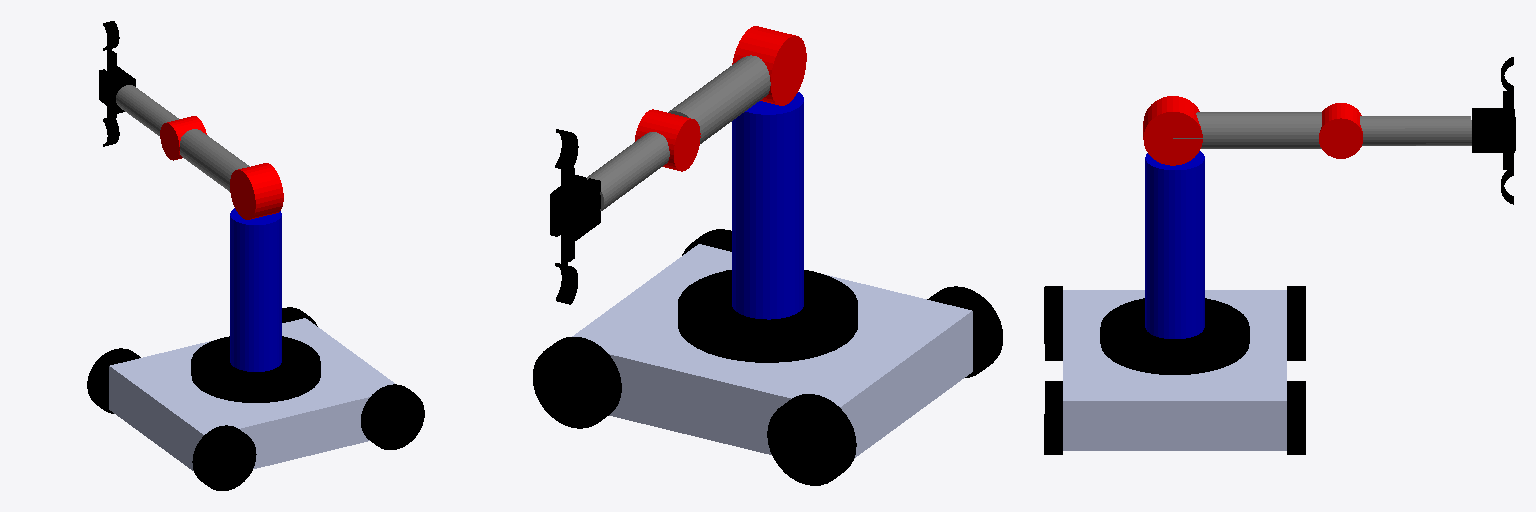
robot.urdf — armatronix:
<?xml version="1.0"?>
<robot name="armatronix">

    <link name="base_link">
        <visual>
            <origin xyz="0 0 0" rpy="0 0 0" />
            <geometry>
                <box size="0.7 0.6 0.15" />
            </geometry>
            <material name="">
                <color rgba="0.79216 0.81961 0.93333 1" />
            </material>
        </visual>
    <collision><origin xyz="0 0 0" rpy="0 0 0" /><geometry><box size="0.7 0.6 0.15" /></geometry></collision><inertial><origin xyz="0 0 0" rpy="0 0 0" /><mass value="5" /><inertia ixx="0.159375" ixy="0.0" ixz="0.0" iyy="0.213542" iyz="0.0" izz="0.354167" /></inertial><collision><origin xyz="0 0 0" rpy="0 0 0" /><geometry><box size="0.7 0.6 0.15" /></geometry></collision><inertial><origin xyz="0 0 0" rpy="0 0 0" /><mass value="5" /><inertia ixx="0.159375" ixy="0.0" ixz="0.0" iyy="0.213542" iyz="0.0" izz="0.354167" /></inertial></link>


    <link name="camera_link">

    </link>

    <joint name="camera_joint" type="fixed">
        <axis xyz="0 1 0" />
        <parent link="base_link" />
        <child link="camera_link" />
        <origin rpy="0 0 0" xyz="0.275 0 0.017" />
    </joint>


    <link name="front_left_wheel">
        <visual>
            <origin xyz="0 0 0" rpy="0 1.5708 0" />
            <geometry>
                
                <cylinder radius="0.1" length="0.05" />
            </geometry>
            <material name="black">
                <color rgba="0 0 0 1.0" />
            </material>
        </visual>
    <collision><origin xyz="0 0 0" rpy="0 0 0" /><geometry><cylinder radius="0.1" length="0.05" /></geometry></collision><inertial><origin xyz="0 0 0" rpy="0 0 0" /><mass value="2" /><inertia ixx="0.005417" ixy="0.0" ixz="0.0" iyy="0.005417" iyz="0.0" izz="0.010000" /></inertial><collision><origin xyz="0 0 0" rpy="0 0 0" /><geometry><cylinder radius="0.1" length="0.05" /></geometry></collision><inertial><origin xyz="0 0 0" rpy="0 0 0" /><mass value="2" /><inertia ixx="0.005417" ixy="0.0" ixz="0.0" iyy="0.005417" iyz="0.0" izz="0.010000" /></inertial></link>

    <joint name="front_left_wheel_joint" type="continuous">
        <axis xyz="1 0 0" />
        <parent link="base_link" />
        <child link="front_left_wheel" />
        <origin xyz="0.3 0.325 0" rpy="0 0 1.57" />
    </joint>


    <link name="front_right_wheel">
        <visual>
            <origin xyz="0 0 0" rpy="0 4.7129 0" />
            <geometry>
                <cylinder radius="0.1" length="0.05" />
            </geometry>
            <material name="black">
                <color rgba="0 0 0 1.0" />
            </material>
        </visual>
    <collision><origin xyz="0 0 0" rpy="0 0 0" /><geometry><cylinder radius="0.1" length="0.05" /></geometry></collision><inertial><origin xyz="0 0 0" rpy="0 0 0" /><mass value="2" /><inertia ixx="0.005417" ixy="0.0" ixz="0.0" iyy="0.005417" iyz="0.0" izz="0.010000" /></inertial></link>

    <joint name="front_right_wheel_joint" type="continuous">
        <axis xyz="1 0 0" />
        <parent link="base_link" />
        <child link="front_right_wheel" />
        <origin xyz="0.3 -0.325 0" rpy="0 0 1.57" />
    </joint>


    <link name="rear_left_wheel">
        <visual>
            <origin xyz="0 0 0" rpy="0 1.5708 0" />
            <geometry>
                <cylinder radius="0.1" length="0.05" />
            </geometry>
            <material name="black">
                <color rgba="0 0 0 1.0" />
            </material>
        </visual>
    <collision><origin xyz="0 0 0" rpy="0 0 0" /><geometry><cylinder radius="0.1" length="0.05" /></geometry></collision><inertial><origin xyz="0 0 0" rpy="0 0 0" /><mass value="2" /><inertia ixx="0.005417" ixy="0.0" ixz="0.0" iyy="0.005417" iyz="0.0" izz="0.010000" /></inertial></link>

    <joint name="rear_left_wheel_joint" type="continuous">
        <axis xyz="1 0 0" />
        <parent link="base_link" />
        <child link="rear_left_wheel" />
        <origin xyz="-0.3 0.325 0" rpy="0 0 1.57" />
    </joint>


    <link name="rear_right_wheel">
        <visual>
            <origin xyz="0 0 0" rpy="3.14 1.5708 0" />
            <geometry>
                <cylinder radius="0.1" length="0.05" />
            </geometry>
            <material name="black">
                <color rgba="0 0 0 1.0" />
            </material>
        </visual>
    <collision><origin xyz="0 0 0" rpy="0 0 0" /><geometry><cylinder radius="0.1" length="0.05" /></geometry></collision><inertial><origin xyz="0 0 0" rpy="0 0 0" /><mass value="2" /><inertia ixx="0.005417" ixy="0.0" ixz="0.0" iyy="0.005417" iyz="0.0" izz="0.010000" /></inertial></link>

    <joint name="rear_right_wheel_joint" type="continuous">
        <axis xyz="1 0 0" />
        <parent link="base_link" />
        <child link="rear_right_wheel" />
        <origin xyz="-0.3 -0.325 0" rpy="0 0 1.57" />
    </joint>





    <link name="arm_base_link">
    <visual>
        <geometry>
            <cylinder length="0.05" radius="0.2" />
        </geometry>
        <material name="Black">
            <color rgba="0 0 0 1" />
        </material>
        <origin rpy="0 0 0" xyz="0 0 0.025" />
    </visual>
    <collision>
        <geometry>
            <cylinder length="0.05" radius="0.2" />
        </geometry>
        <origin xyz="0 0 0.025" rpy="0 0 0" />
    </collision>
    <inertial>
        <mass value="2.0" /> <!-- Adjusted mass considering the base -->
        <origin xyz="0 0 0" rpy="0 0 0" />
        <inertia ixx="0.0035" ixy="0.0" ixz="0.0" iyy="0.0035" iyz="0.0" izz="0.007" />
    </inertial>
</link>

<link name="link_1">
    <visual>
        <origin xyz="0.0 0.0 0.25" rpy="0.0 0.0 0.0" />
        <geometry>
            <cylinder radius="0.08" length="0.5" />
        </geometry>
        <material name="Blue">
            <color rgba="0 0 0.8 1" />
        </material>
    </visual>
    <collision>
        <geometry>
            <cylinder radius="0.08" length="0.5" />
        </geometry>
        <origin xyz="0.0 0.0 0.25" rpy="0.0 0.0 0.0" />
    </collision>
    <inertial>
        <mass value="1.5" /> <!-- Adjusted for the long link -->
        <origin xyz="0 0 0" rpy="0 0 0" />
        <inertia ixx="0.005" ixy="0.0" ixz="0.0" iyy="0.005" iyz="0.0" izz="0.0015" />
    </inertial>
</link>

<link name="link_2">
    <visual>
        <geometry>
            <cylinder radius="0.08" length="0.1" />
        </geometry>
        <material name="Red">
            <color rgba="1 0 0 1" />
        </material>
    </visual>
    <collision>
        <geometry>
            <cylinder radius="0.08" length="0.1" />
        </geometry>
        <origin xyz="0 0 0.05" rpy="0 0 0" />
    </collision>
    <inertial>
        <mass value="0.5" /> <!-- Lighter link due to its size -->
        <origin xyz="0 0 0" rpy="0 0 0" />
        <inertia ixx="0.0003" ixy="0.0" ixz="0.0" iyy="0.0003" iyz="0.0" izz="0.0001" />
    </inertial>
</link>

<link name="link_3">
    <visual>
        <geometry>
            <cylinder radius="0.05" length="0.4" />
        </geometry>
        <material name="Blue">
            <color rgba="0.5 0.5 0.5 1" />
        </material>
    </visual>
    <collision>
        <geometry>
            <cylinder radius="0.05" length="0.4" />
        </geometry>
        <origin xyz="0 0 0.2" rpy="0 0 0" />
    </collision>
    <inertial>
        <mass value="1.0" /> <!-- Moderate mass for stability -->
        <origin xyz="0 0 0" rpy="0 0 0" />
        <inertia ixx="0.0015" ixy="0.0" ixz="0.0" iyy="0.0015" iyz="0.0" izz="0.0006" />
    </inertial>
</link>

<link name="link_4">
    <visual>
        <geometry>
            <cylinder radius="0.06" length="0.1" />
        </geometry>
        <material name="Red">
            <color rgba="1 0 0 1" />
        </material>
    </visual>
    <collision>
        <geometry>
            <cylinder radius="0.06" length="0.1" />
        </geometry>
        <origin xyz="0 0 0.05" rpy="0 0 0" />
    </collision>
    <inertial>
        <mass value="0.5" /> <!-- Small link, lower mass -->
        <origin xyz="0 0 0" rpy="0 0 0" />
        <inertia ixx="0.0002" ixy="0.0" ixz="0.0" iyy="0.0002" iyz="0.0" izz="0.00005" />
    </inertial>
</link>

<link name="link_5">
    <visual>
        <geometry>
            <cylinder radius="0.04" length="0.3" />
        </geometry>
        <material name="Blue">
            <color rgba="0.5 0.5 0.5 1" />
        </material>
    </visual>
    <collision>
        <geometry>
            <cylinder radius="0.04" length="0.3" />
        </geometry>
        <origin xyz="0 0 0.15" rpy="0 0 0" />
    </collision>
    <inertial>
        <mass value="0.8" /> <!-- Final link with payload capability -->
        <origin xyz="0 0 0" rpy="0 0 0" />
        <inertia ixx="0.0009" ixy="0.0" ixz="0.0" iyy="0.0009" iyz="0.0" izz="0.0002" />
    </inertial>
</link>

<link name="gripper_link">
    <visual>
        <geometry>
            <mesh filename="package://armatronix/meshes/angular_gripper.stl" scale="0.002 0.002 0.002"/>

        </geometry>
        <material name="black">
                <color rgba="0 0 0 1.0" />
        </material>
        <origin xyz="0 0 0" rpy="0 0 0"/>
    </visual>

    <collision>
        <geometry>
            <mesh filename="package://armatronix/meshes/angular_gripper.stl" scale="0.002 0.002 0.002"/>

        </geometry>
        <origin xyz="0 0 0" rpy="0 0 0"/>
    </collision>

    <inertial>
        <mass value="0.3"/>  <!-- Approximate mass of the gripper, you can adjust this -->
        <origin xyz="0 0 0" rpy="0 0 0"/>
        <inertia ixx="0.001" ixy="0.0" ixz="0.0" iyy="0.001" iyz="0.0" izz="0.001"/>
    </inertial>
</link>


<joint name="joint_0" type="fixed">
    <parent link="base_link" />
    <child link="arm_base_link" />
    <origin rpy="0 0 0" xyz="0.0 0.0 0.08" />
</joint>

<joint name="joint_1" type="continuous">
    <axis xyz="0 0 1" />
    <parent link="arm_base_link" />
    <child link="link_1" />
    <origin rpy="0 0 0" xyz="0.0 0.0 0.05" />
</joint>

<joint name="joint_2" type="revolute">
    <axis xyz="0 0 1" />
    <parent link="link_1" />
    <child link="link_2" />
    <origin rpy="0 1.5708 0" xyz="0.0 -0.005 0.58" />
    <limit lower="-0.127" upper="1.57" effort="10" velocity="0.5" />
</joint>

<joint name="joint_3" type="fixed">
    <parent link="link_2" />
    <child link="link_3" />
    <origin rpy="1.57 0 0" xyz="0.0 0.2 0 " />
</joint>

<joint name="joint_4" type="revolute">
    <parent link="link_3" />
    <child link="link_4" />
    <origin rpy="1.57 0 0" xyz=" 0 0 -0.25" />
    <axis xyz=" 0 0 1" />
    <limit lower="-0.00" upper="1.57" effort="10" velocity="0.5" />
</joint>

<joint name="joint_5" type="fixed">
    <parent link="link_4" />
    <child link="link_5" />
    <origin rpy="1.57 0 0" xyz="0.0 -0.2 0 " />
</joint>

<joint name="gripper_joint" type="continuous">
    <axis xyz="0 1 0" />
    <parent link="link_5"/>
    <child link="gripper_link"/>
    <origin xyz="0 0 0.21" rpy="1.5708 0 0"/>  <!-- Adjust based on where the gripper should be attached -->
    
</joint>


<gazebo reference="arm_base_link">
    <material>Gazebo/Black</material>
</gazebo>

<gazebo reference="link_1">
    <material>Gazebo/Orange</material>
</gazebo>

<gazebo reference="link_3">
    <material>Gazebo/Orange</material>
</gazebo>

<gazebo reference="link_2">
    <material>Gazebo/Red</material>
</gazebo>

<gazebo reference="link_4">
    <material>Gazebo/Red</material>
</gazebo>

<gazebo reference="link_5">
    <material>Gazebo/Orange</material>
</gazebo>

</robot>





    <!-- <?xml version="1.0"?> -->
<!-- <robot name="armatronix"> -->
    <!-- <link name="base_link">
        <visual>
            <geometry>
                <cylinder length="0.05" radius="0.2"/>
            </geometry>
            <material name="Black">
                <color rgba="0 0 0 1"/>
            </material>
            <origin rpy="0 0 0" xyz="0 0 0.025"/>
        </visual>
        
        <collision>
            <geometry>
                <cylinder radius="0.2" length="0.05"/>
            </geometry>
            <origin rpy="0 0 0" xyz="0 0 0.025"/>
        </collision>

        <inertial>
            <origin xyz="0.0 0.0 0.025" rpy="0.0 0.0 0.0"/>
            <mass value="5.0"/>
            <inertia ixx="0.0135" ixy="0.0" ixz="0.0" iyy="0.0135" iyz="0.0" izz="0.05"/>
        </inertial>
    </link>

    <link name="link_1">
        <visual>
            <origin xyz="0.0 0.0 0.25" rpy="0.0 0.0 0.0"/>
            <geometry>
                <cylinder radius="0.08" length="0.5"/>
            </geometry>
            <material name="Blue">
                <color rgba="0 0 0.8 1"/>
            </material>
        </visual>

        <collision>
            <origin xyz="0.0 0.0 0.25" rpy="0.0 0.0 0.0"/>
            <geometry>
                <cylinder radius="0.08" length="0.5"/>
            </geometry>
        </collision>

        <inertial>
            <origin xyz="0.0 0.0 0.25" rpy="0.0 0.0 0.0"/>
            <mass value="5.0"/>
            <inertia ixx="0.107" ixy="0.0" ixz="0.0" iyy="0.107" iyz="0.0" izz="0.0125"/>
        </inertial>
    </link>
        

    <link name="link_2">
        <visual>
            <geometry>
                <cylinder radius="0.08" length="0.1"/>
            </geometry>
            <material name="Red">
                <color rgba="1 0 0 1"/>
            </material>
        </visual>

        <collision>
            <geometry>
                <cylinder radius="0.08" length="0.1"/>
            </geometry>
        </collision>

        <inertial>
            <origin xyz="0.0 0.0 0.2" rpy="0.0 0.0 0.0"/>
            <mass value="2.0"/>
            <inertia ixx="0.027" ixy="0.0" ixz="0.0" iyy="0.027" iyz="0.0" izz="0.0025"/>
        </inertial>
    </link>
        

    <link name="link_3">
        <visual>
            <geometry>
                <cylinder radius="0.05" length="0.4"/>
            </geometry>
            <material name="Blue">
                <color rgba="0.5 0.5 0.5 1"/>
            </material>
        </visual>

        <collision>
            <geometry>
                <cylinder radius="0.05" length="0.4"/>
            </geometry>
        </collision>

        <inertial>
            <origin xyz="0.0 0.0 0.2" rpy="0.0 0.0 0.0"/>
            <mass value="0.01"/>
            <inertia ixx="0.027" ixy="0.0" ixz="0.0" iyy="0.027" iyz="0.0" izz="0.0025"/>
        </inertial>
    </link>


    <link name="link_4">
        <visual>
            <geometry>
                <cylinder radius="0.06" length="0.1"/>
            </geometry>
            <material name="Red">
                <color rgba="1 0 0 1"/>
            </material>
        </visual>

        <collision>
            <geometry>
                <cylinder radius="0.06" length="0.1"/>
            </geometry>
        </collision>

        <inertial>
            <origin xyz="0.0 0.0 0.2" rpy="0.0 0.0 0.0"/>
            <mass value="0.01"/>
            <inertia ixx="0.027" ixy="0.0" ixz="0.0" iyy="0.027" iyz="0.0" izz="0.0025"/>
        </inertial>
    </link>


    <link name="link_5">
        <visual>
            <geometry>
                <cylinder radius="0.03" length="0.3"/>
            </geometry>
            <material name="Yelow">
                <color rgba="0 1 0.5 1"/>
            </material>
        </visual>

        <collision>
            <geometry>
                <cylinder radius="0.03" length="0.3"/>
            </geometry>
            <dynamics damping="0.0" friction="0.0"/>
        </collision>

        <inertial>
            <origin xyz="0.0 0.0 0.2" rpy="0.0 0.0 0.0"/>
            <mass value="0.01"/>
            <inertia ixx="0.027" ixy="0.0" ixz="0.0" iyy="0.027" iyz="0.0" izz="0.0025"/>
        </inertial>
    </link>



    <joint name="joint_1" type="continuous">
        <axis xyz="0 0 1"/>
        <parent link="base_link"/>
        <child link="link_1"/>
        <origin rpy="0 0 0" xyz="0.0 0.0 0.05"/>

    </joint>

    <joint name="joint_2" type="continuous">
        <axis xyz="0 0 1"/>
        <parent link="link_1"/>
        <child link="link_2"/>
        <origin rpy="0 1.5708 0" xyz="0.0 -0.005 0.58"/>
        <limit lower="-0.25" upper="3.34" effort="10" velocity="0.5"/>

    </joint>

    <joint name="joint_3" type="fixed">
        <parent link="link_2"/>
        <child link="link_3"/>
        <origin rpy="1.57 0 0" xyz="0.0 0.2 0 "/>

    </joint>


    <joint name="joint_4" type="continuous">
        <parent link="link_3"/>
        <child link="link_4"/>
        <origin rpy="1.57 0 0" xyz=" 0 0 -0.25"/>
        <axis xyz=" 0 0 1"/>
        <limit lower="-1.92" upper="1.92" effort="10" velocity="0.5"/>

    </joint>

    <joint name="joint_5" type="fixed">
        <parent link="link_4"/>
        <child link="link_5"/>
        <origin rpy="1.57 0 0" xyz="0.0 -0.2 0 "/>

    </joint>


    <gazebo reference="base_link">
    <material>Gazebo/Black</material>
    </gazebo>

    <gazebo reference="link_1">
    <material>Gazebo/Orange</material>
    </gazebo>

    <gazebo reference="link_3">
    <material>Gazebo/Orange</material>
    </gazebo>

    <gazebo reference="link_2">
    <material>Gazebo/Red</material>
    </gazebo>

    <gazebo reference="link_4">
    <material>Gazebo/Red</material>
    </gazebo>

    <gazebo reference="link_5">
    <material>Gazebo/Orange</material>
    </gazebo>


    <ros2_control name="GazeboSystem" type="system">
    <hardware>
        <plugin>gazebo_ros2_control/GazeboSystem</plugin>
    </hardware>
    <joint name="joint_1">

        <command_interface name="position">
        <param name="min">-3.14</param>
        <param name="max">3.14</param>
        </command_interface>

        <state_interface name="position">
        <param name="initial_value">1.0</param>
        </state_interface>
        <state_interface name="velocity"/>
        <state_interface name="effort"/>

    </joint>
    </ros2_control>

    <ros2_control name="GazeboSystem" type="system">
    <hardware>
        <plugin>gazebo_ros2_control/GazeboSystem</plugin>
    </hardware>
    <joint name="joint_2">

        <command_interface name="position">
        <param name="min">-0.75</param>
        <param name="max">3.14</param>
        </command_interface>

        <state_interface name="position">
        <param name="initial_value">1.0</param>
        </state_interface>
        <state_interface name="velocity"/>
        <state_interface name="effort"/>

    </joint>
    </ros2_control>

    <ros2_control name="GazeboSystem" type="system">
    <hardware>
        <plugin>gazebo_ros2_control/GazeboSystem</plugin>
    </hardware>
    <joint name="joint_4">

        <command_interface name="position">
        <param name="min">-2.00</param>
        <param name="max">1.57</param>
        </command_interface>

        <state_interface name="position">
        <param name="initial_value">1.0</param>
        </state_interface>
        <state_interface name="velocity"/>
        <state_interface name="effort"/>

    </joint>
    </ros2_control>


    <gazebo>
        <plugin filename="libgazebo_ros2_control.so" name="gazebo_ros2_control">
        <robot_param>robot_description</robot_param>
        <robot_param_node>robot_state_publisher</robot_param_node>
        <parameters>[local-path]/udemy_ws/src/robotic_arms_control/config/bazu_controller.yaml</parameters>
        </plugin>
    </gazebo>

</robot> -->

--- What the picture shows (computed from the rendered views, not written in the file) ---
Views: 3 orthographic renders of the robot side by side, from view 1: azimuth 30°, elevation 25°; view 2: azimuth 150°, elevation 25°; view 3: azimuth 270°, elevation 25°.
Robot: armatronix — 13 links, 12 joints (2 revolute, 6 continuous, 4 fixed); root link base_link; default pose: every joint at zero.
Links seen in each view (by area): view 1: base_link, link_1, arm_base_link, front_right_wheel, rear_right_wheel, link_2, link_3, gripper_link, link_5, rear_left_wheel, link_4; view 2: base_link, link_1, arm_base_link, rear_left_wheel, front_left_wheel, gripper_link, link_3, link_2, link_5, rear_right_wheel, link_4, front_right_wheel; view 3: base_link, link_1, arm_base_link, link_3, link_2, link_5, gripper_link, link_4, rear_left_wheel, rear_right_wheel, front_left_wheel, front_right_wheel.
Boxes of the visible links, x1,y1,x2,y2 form: base_link: (109, 318, 394, 470); link_1: (230, 208, 281, 371); arm_base_link: (191, 336, 320, 402); front_right_wheel: (361, 384, 424, 449); rear_right_wheel: (192, 425, 256, 490); link_2: (230, 163, 283, 219); link_3: (180, 129, 249, 191); gripper_link: (99, 21, 135, 146); link_5: (116, 85, 178, 135); rear_left_wheel: (87, 348, 140, 413); link_4: (160, 116, 206, 160); base_link: (572, 244, 972, 458); link_1: (732, 92, 803, 319); arm_base_link: (678, 270, 857, 362); rear_left_wheel: (767, 394, 856, 485); front_left_wheel: (533, 337, 621, 428); gripper_link: (550, 129, 600, 304); link_3: (668, 55, 770, 143); link_2: (732, 26, 806, 105); link_5: (587, 132, 669, 210); rear_right_wheel: (927, 286, 1002, 377); link_4: (635, 109, 700, 171); front_right_wheel: (682, 229, 731, 255); base_link: (1063, 290, 1286, 450); link_1: (1145, 151, 1204, 338); arm_base_link: (1100, 298, 1249, 374); link_3: (1173, 112, 1321, 148); link_2: (1143, 96, 1202, 165); link_5: (1360, 116, 1471, 145); gripper_link: (1472, 57, 1515, 204); link_4: (1319, 103, 1362, 158); rear_left_wheel: (1287, 286, 1305, 360); rear_right_wheel: (1044, 286, 1062, 360); front_left_wheel: (1287, 381, 1305, 454); front_right_wheel: (1044, 381, 1062, 454).
Bounding box of the posed robot: 0.8 × 1.26 × 1.02 m (x, y, z).
1 mesh visuals loaded from 1 distinct referenced files (1 binary STL).
